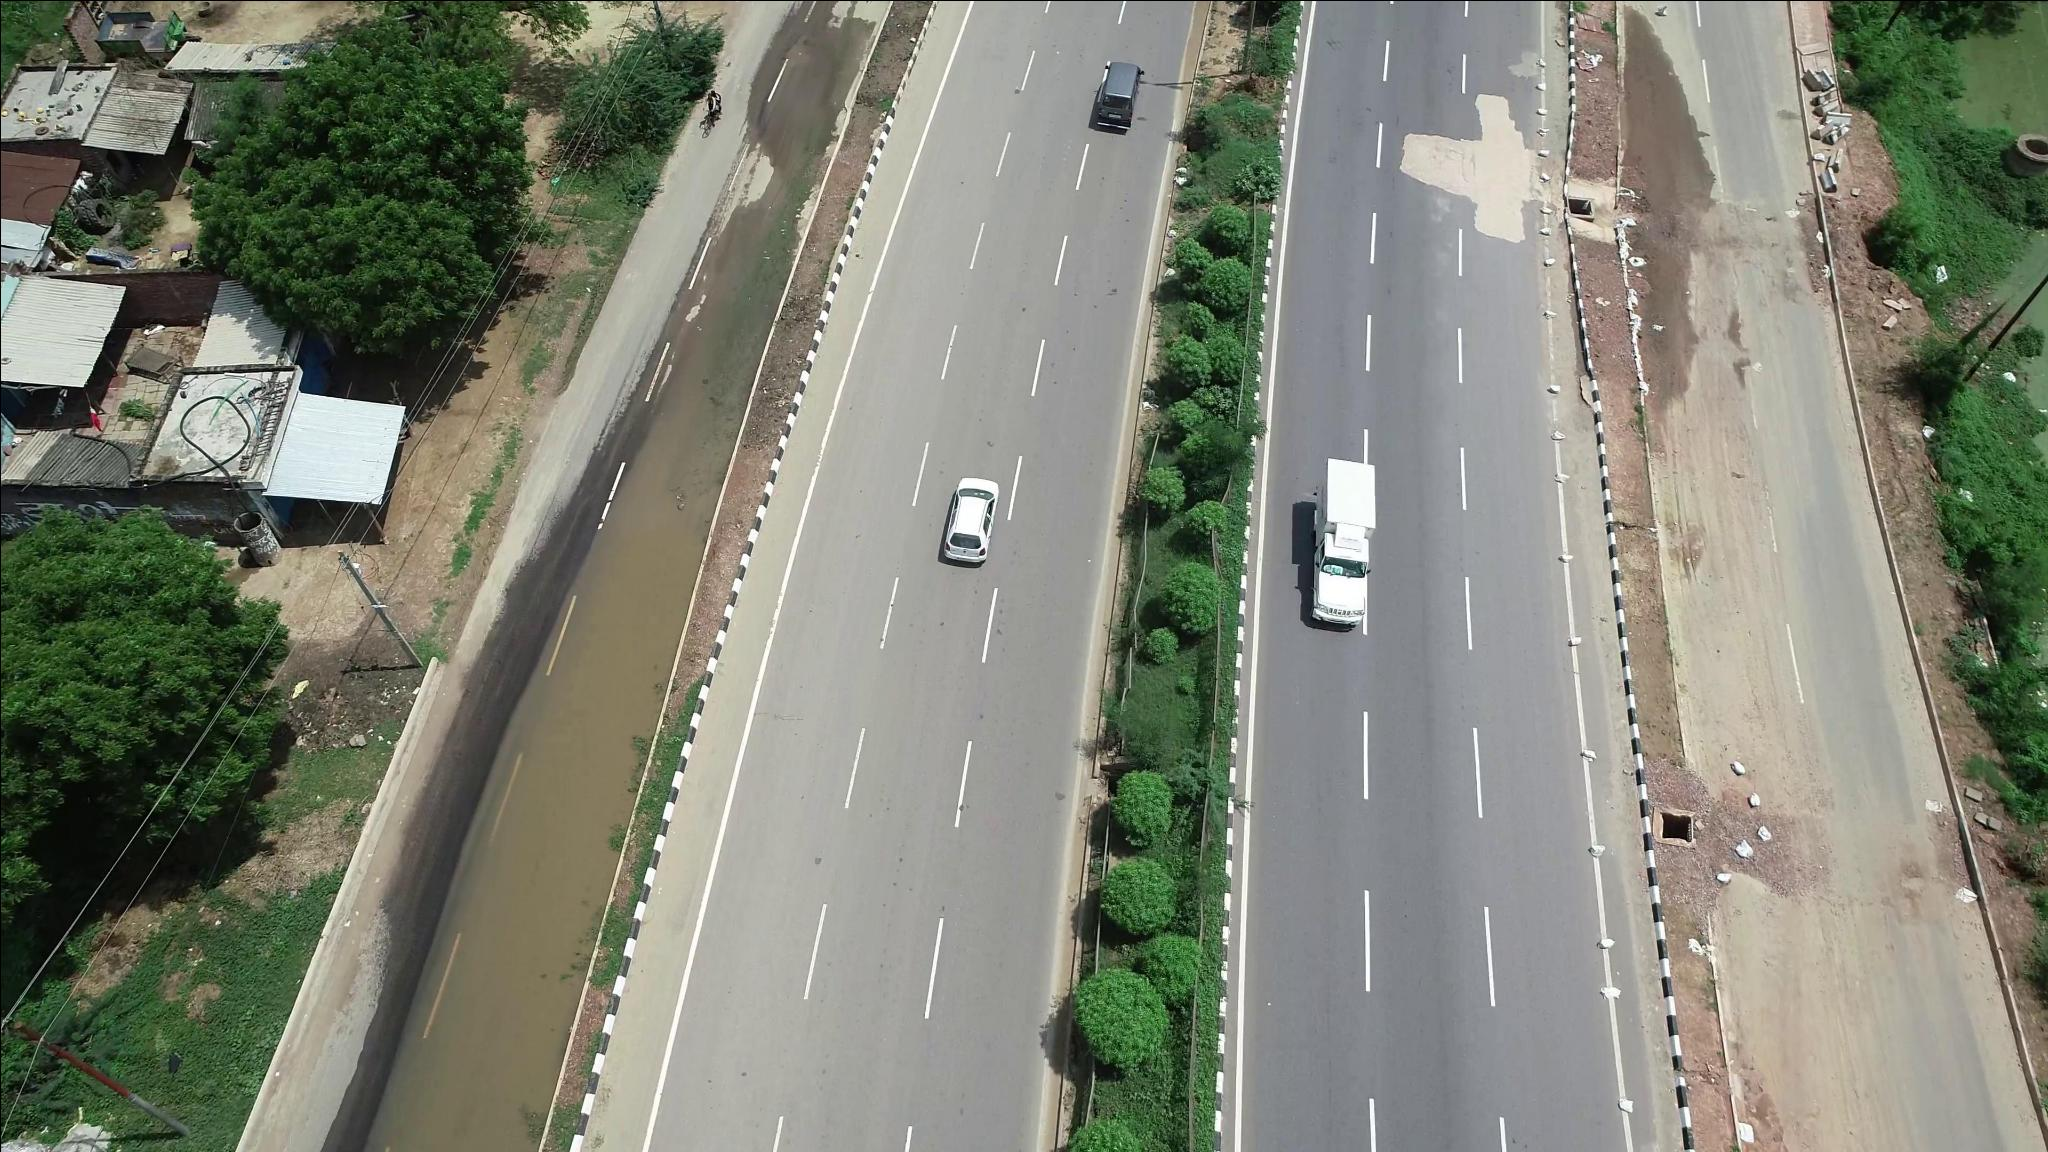Waterlogging: (369, 724, 615, 1108), (560, 356, 726, 655)
